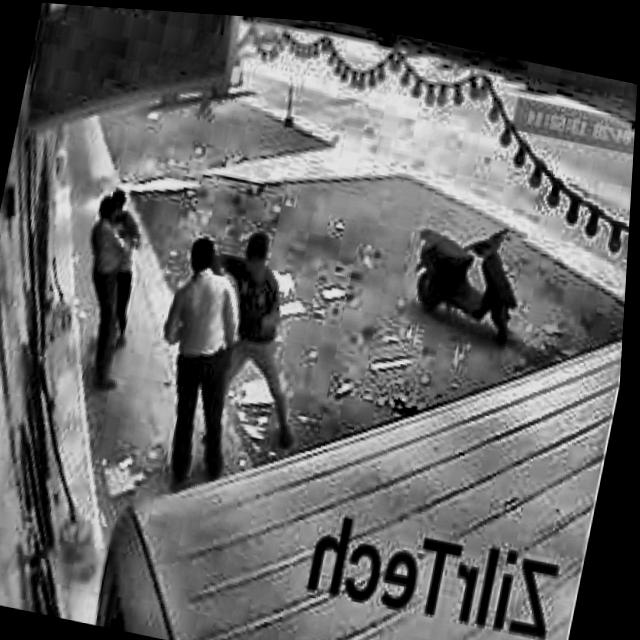robbery: (127, 202, 335, 506), (69, 183, 159, 388)
